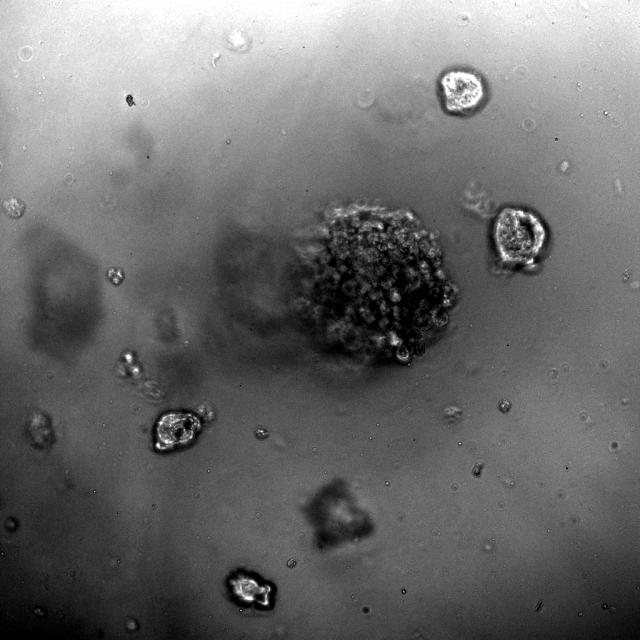organoid: (293, 202, 459, 364), (494, 207, 545, 267), (437, 67, 489, 116), (226, 567, 276, 611), (154, 411, 201, 452), (26, 411, 55, 449), (116, 349, 142, 378), (2, 196, 26, 218), (106, 267, 124, 286)
